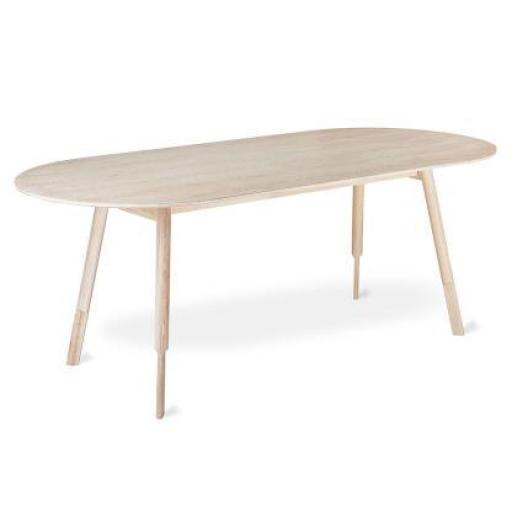table: (8, 126, 500, 417)
